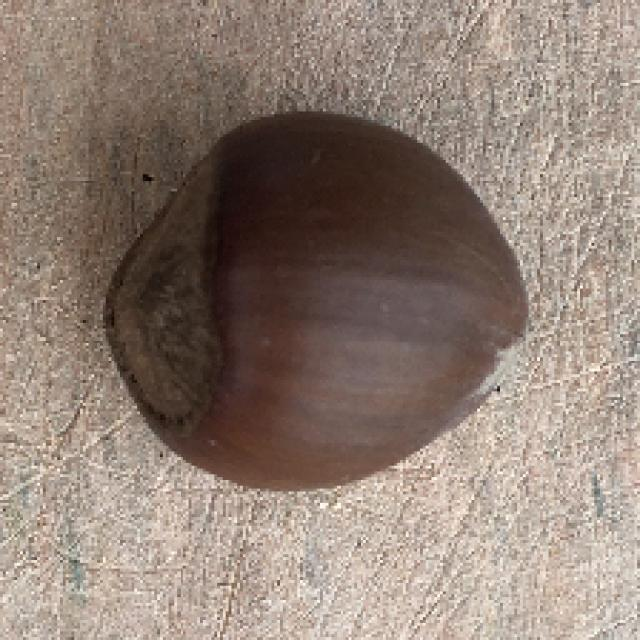damagedHazelnut: (101, 97, 539, 499)
